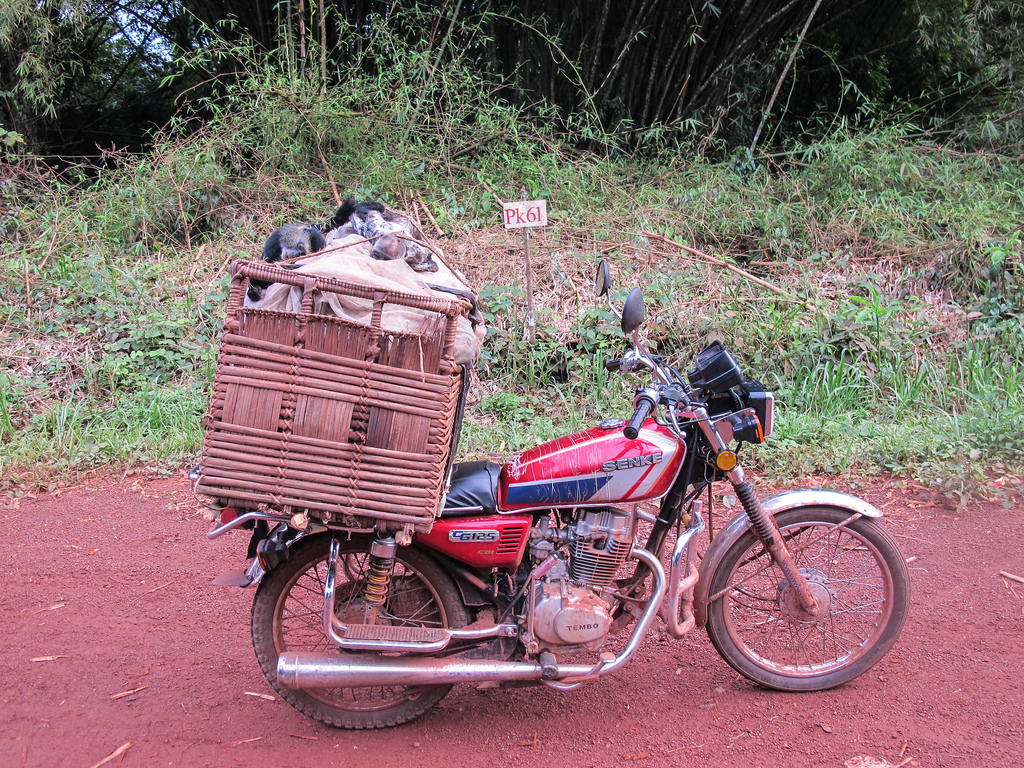motorbike: (178, 332, 957, 734)
